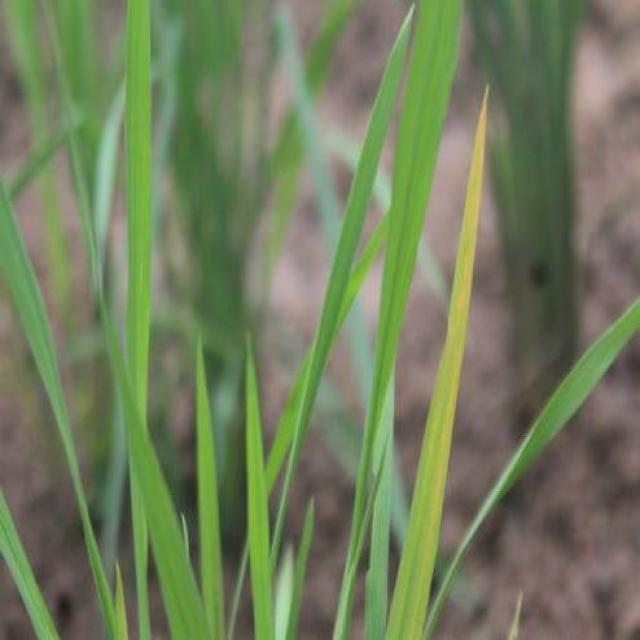Tungro: (407, 58, 500, 635)
